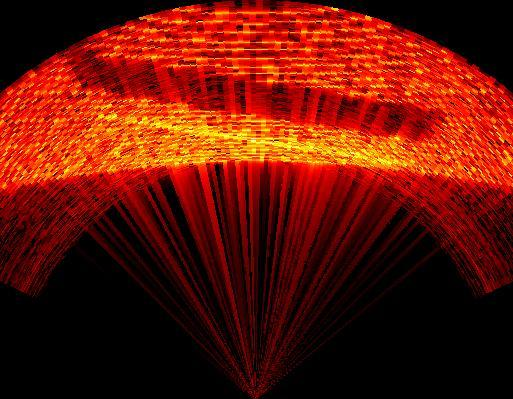pipe: (61, 48, 446, 172)
